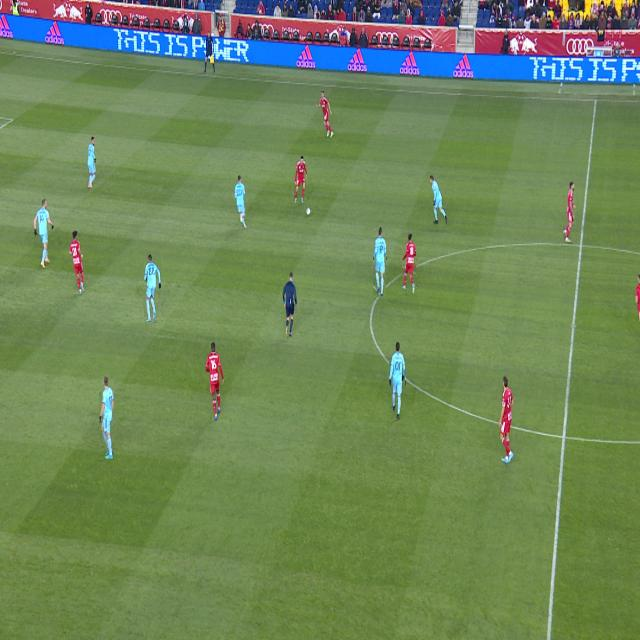football: (306, 207, 311, 215)
player: (205, 342, 224, 421), (34, 199, 54, 269), (499, 376, 514, 463), (99, 377, 114, 460), (390, 342, 405, 420), (144, 255, 161, 322), (69, 231, 84, 295), (430, 175, 448, 224), (316, 91, 334, 138), (374, 227, 386, 296), (563, 182, 576, 243), (403, 233, 416, 294), (234, 175, 247, 229), (295, 156, 307, 204), (87, 137, 97, 189), (635, 272, 640, 323)
referee: (283, 271, 297, 337)
